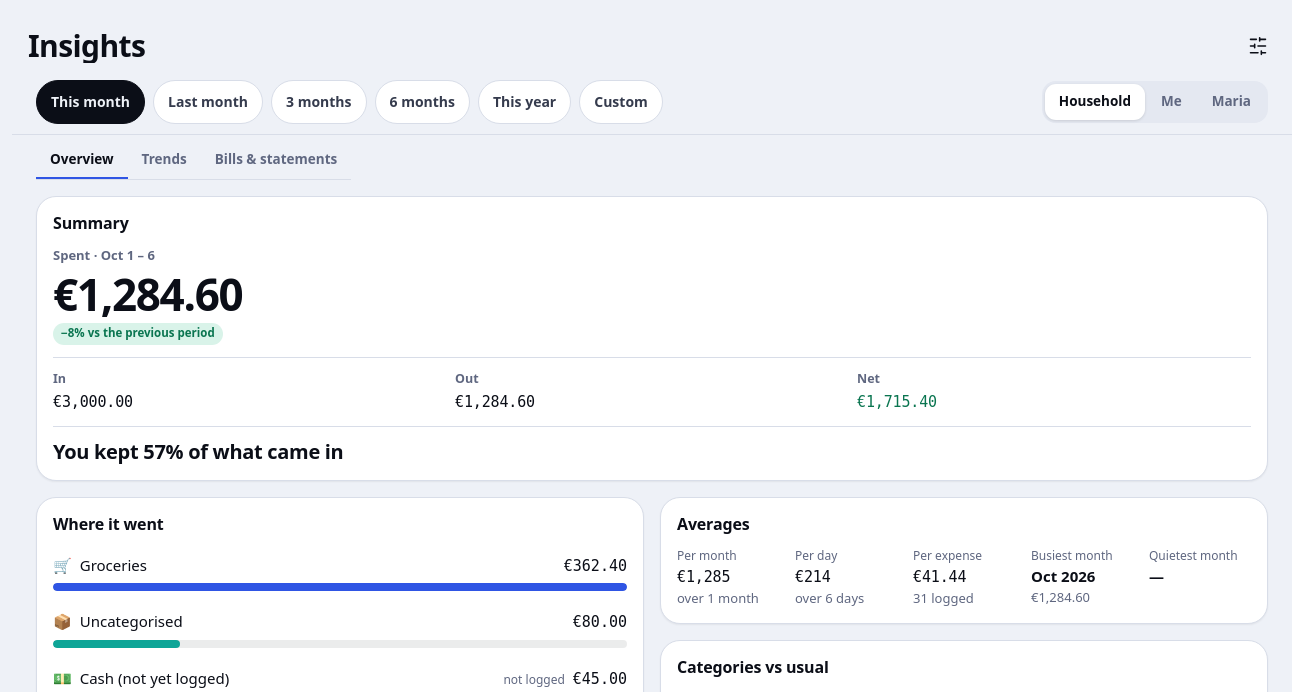
the tabs › live in the query string: Overview writes nothing, the others write ?tab=
Click the tab "Trends" at (164, 161), box x1=128 y1=143 x2=201 y2=179
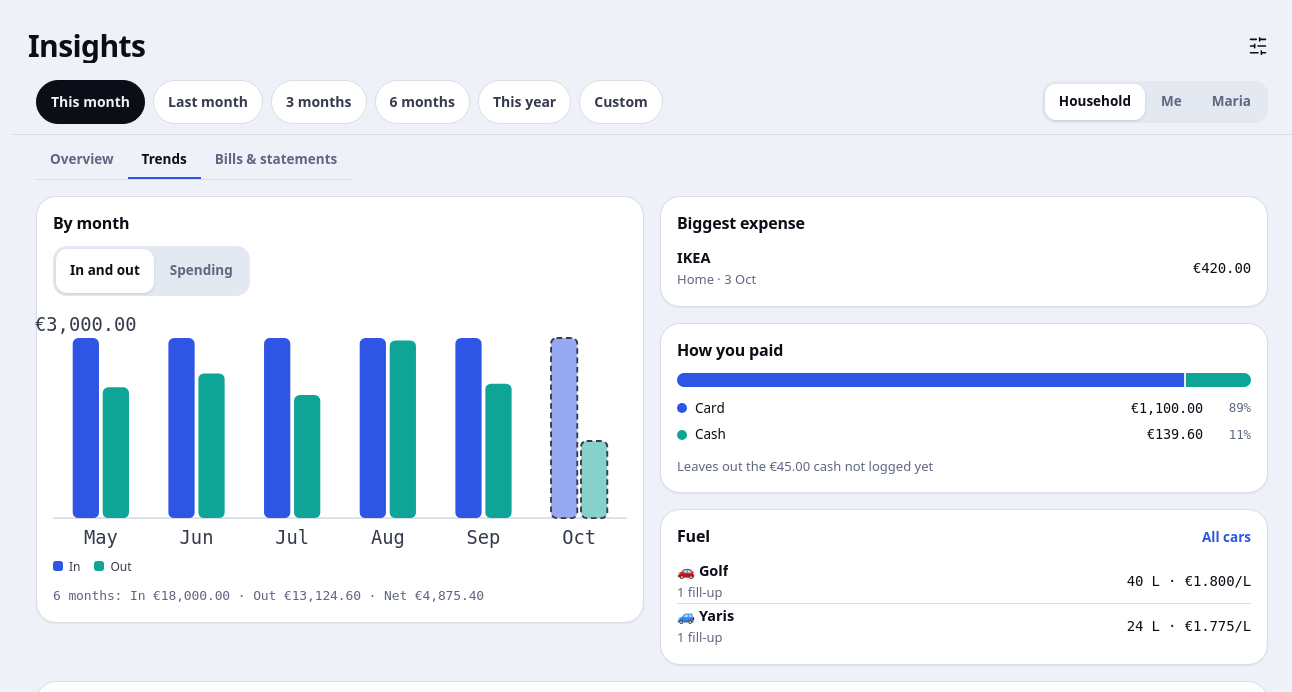
Click the tab "Bills & statements" at (276, 161), box x1=201 y1=143 x2=351 y2=179
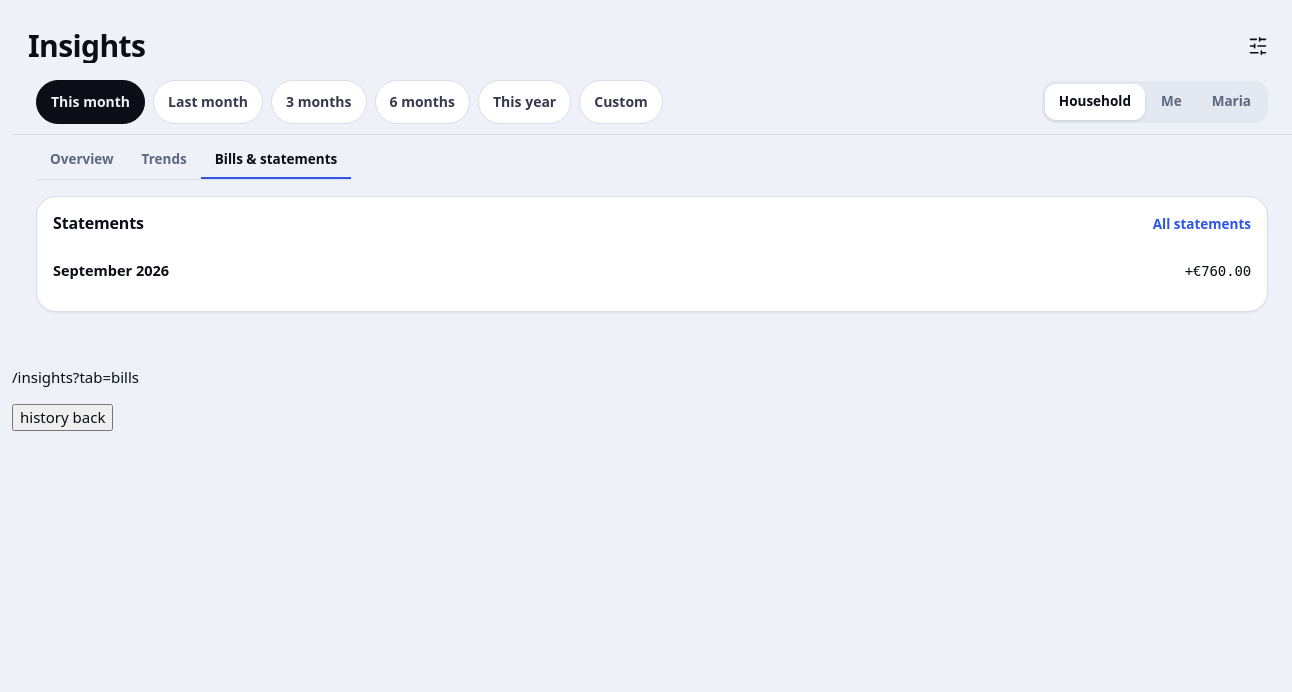
Check: the text with test id "at" shows "tab=bills", box x1=12 y1=367 x2=139 y2=387
Click the tab "Overview" at (82, 161), box x1=36 y1=143 x2=128 y2=179
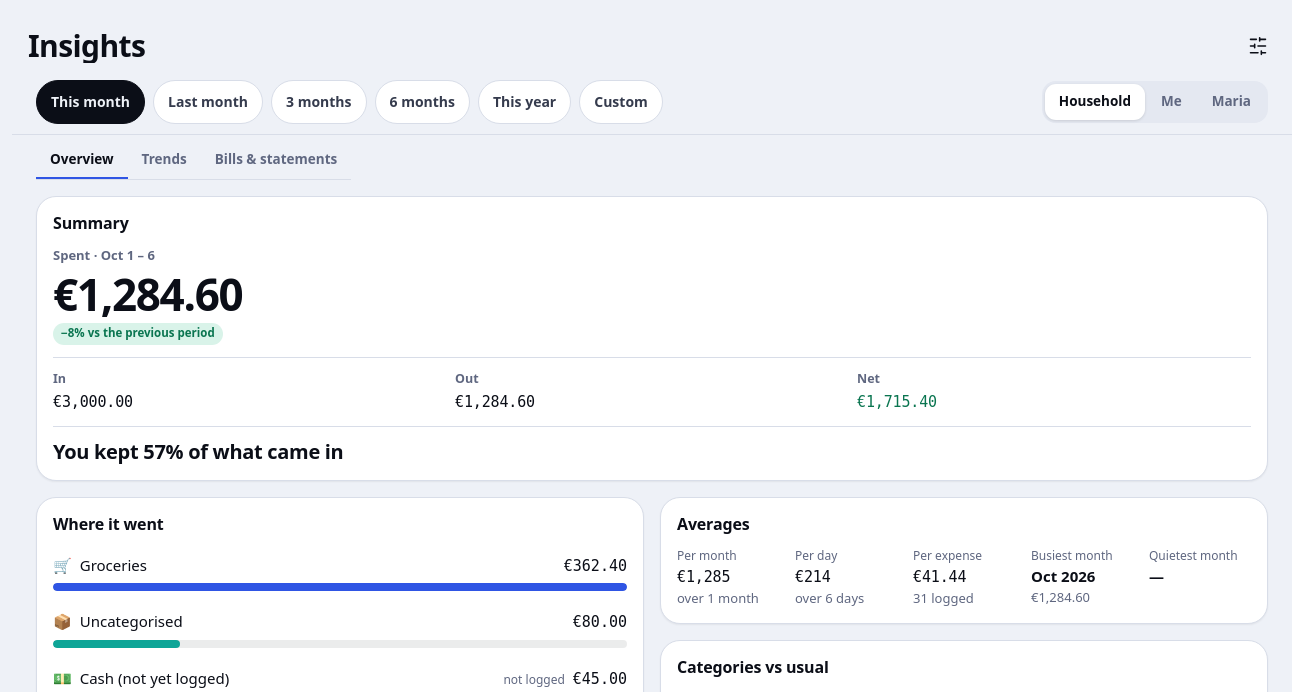
Check: the text with test id "at" no longer shows "tab="
